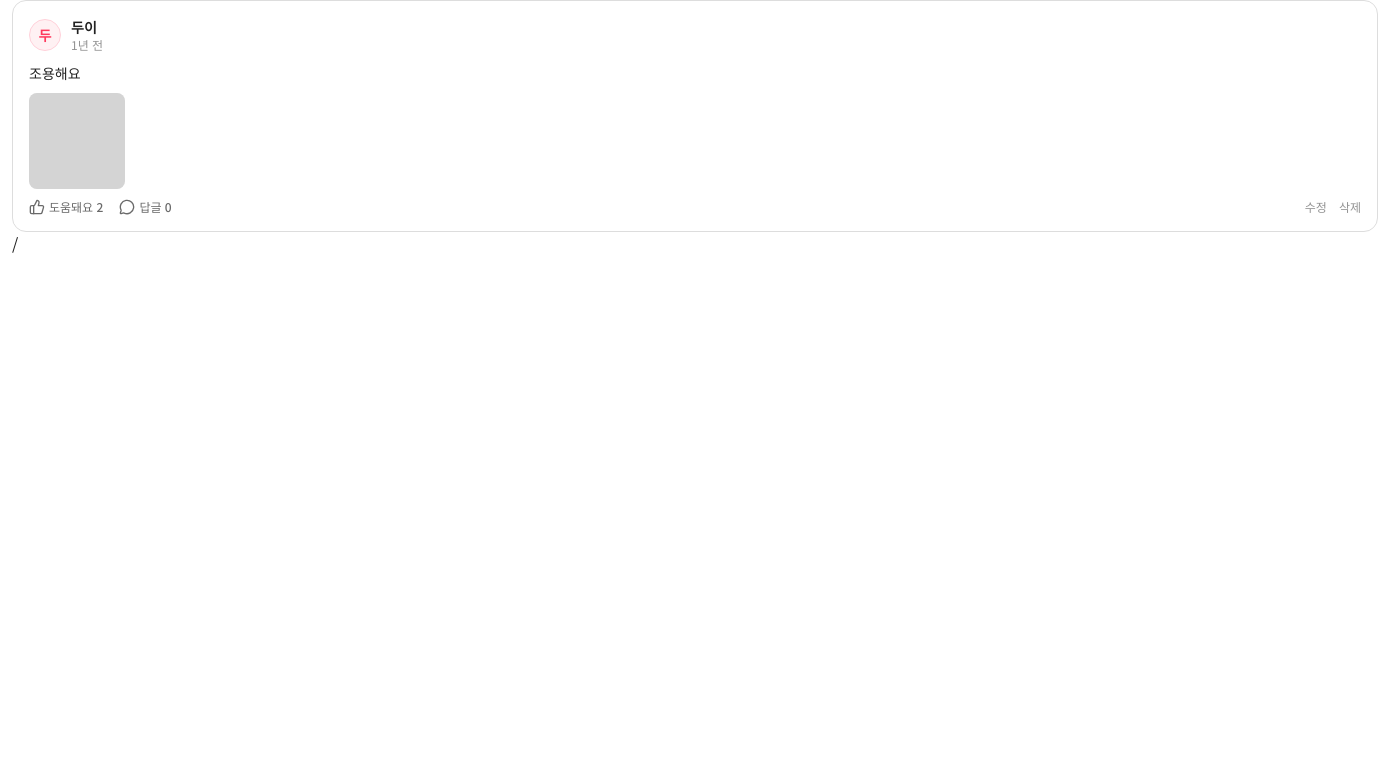
TipCard › 내 팁: 도움돼요는 누를 수 없고, 수정해 저장하면 바뀐다
Expected: the element showing "두 두이 1년 전 조용해요 도움돼요 2 답글 0 수정 삭제" is shown, [12,0,1377,232]
Click the button "도움돼요 2" at (66, 207), box [29,199,103,215]
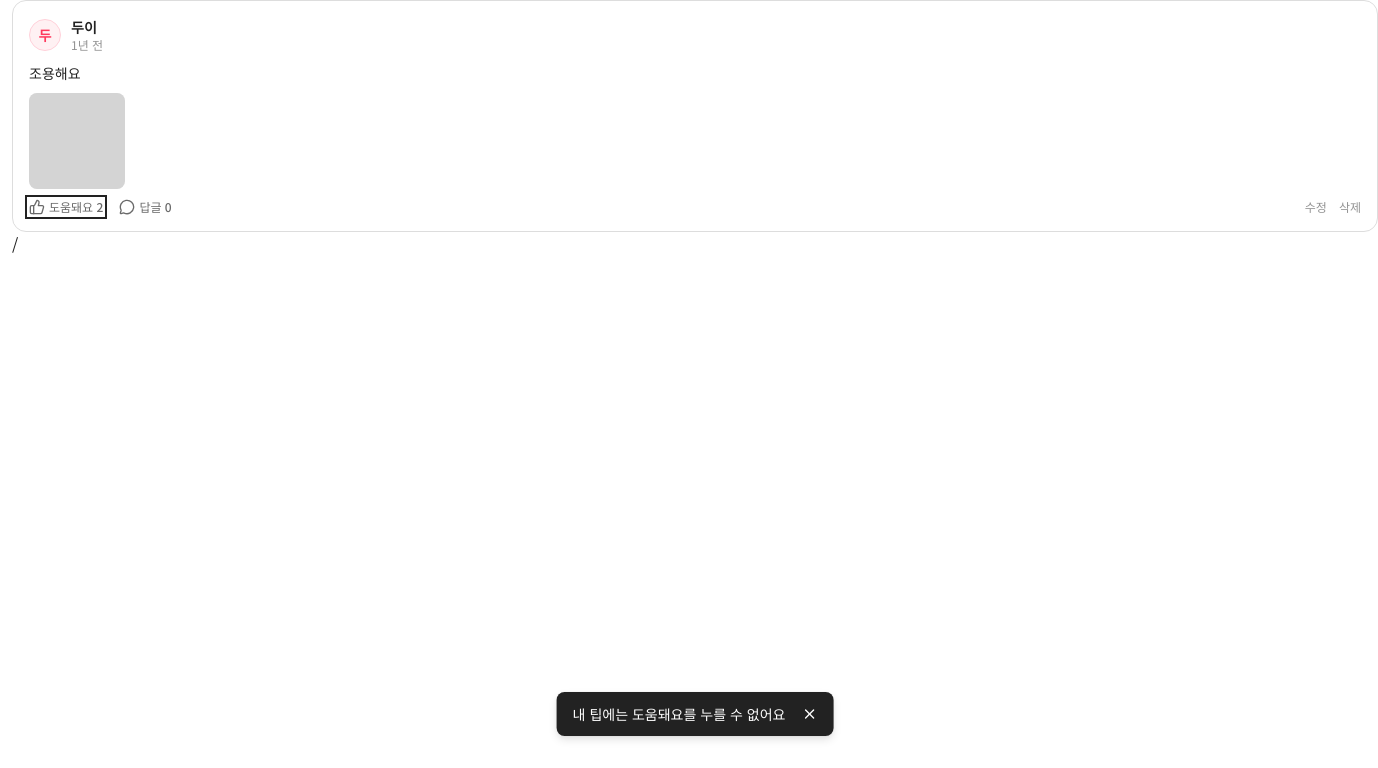
Expected: the message reads "내 팁에는 도움돼요를 누를 수 없어요", [573,704,785,724]
Click the button "수정" at (1316, 207), box [1305,199,1327,215]
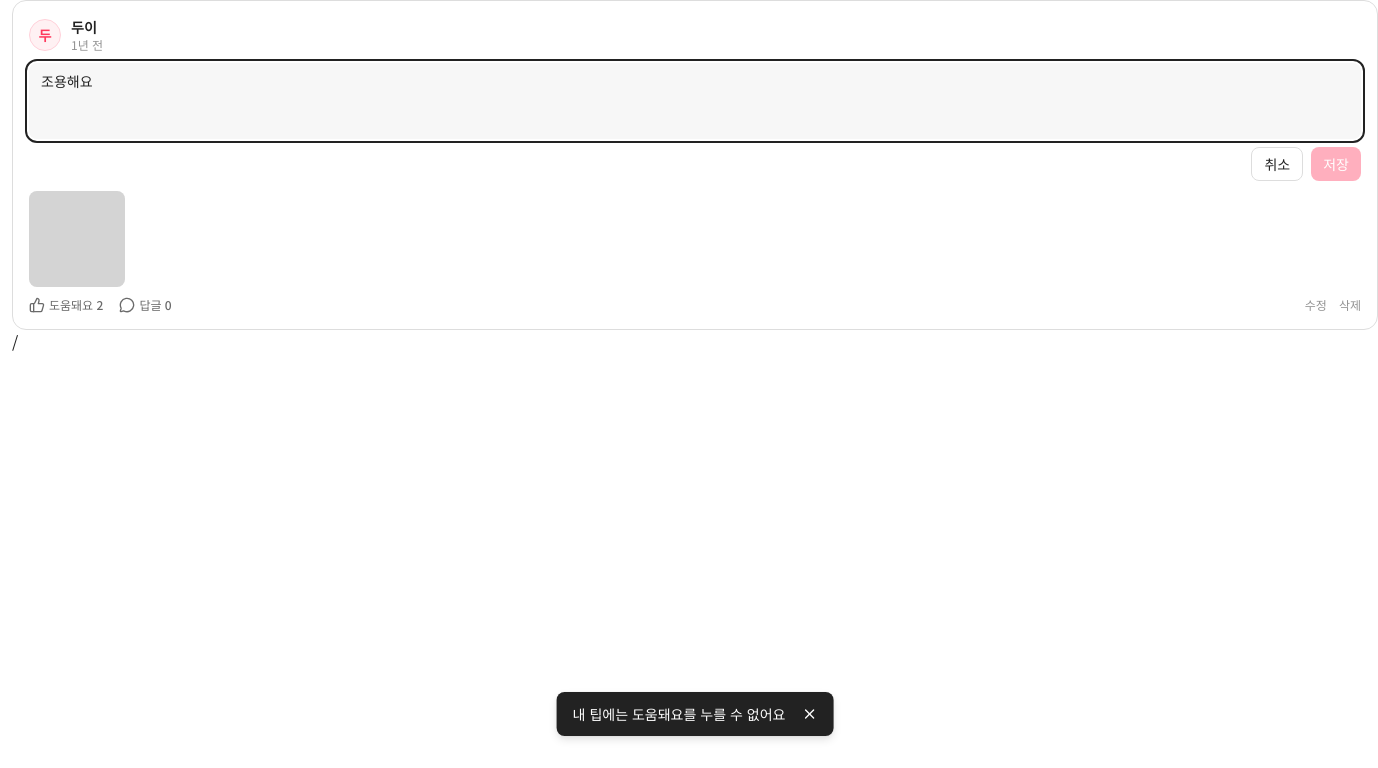
Replace the text in the text box named "팁 고치기" with "고친 팁" at (695, 101), box [29,63,1361,139]
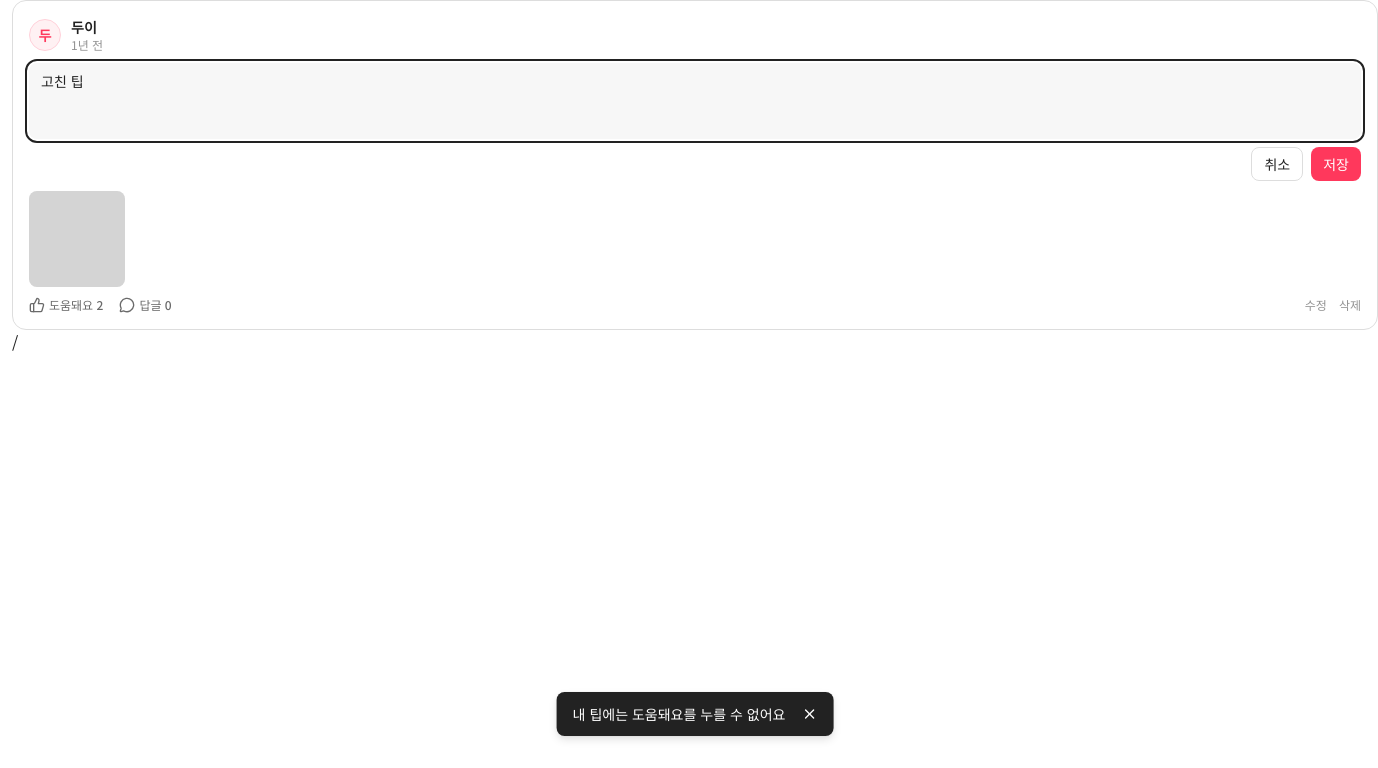
Click the button "저장" at (1336, 164), box [1311,147,1361,181]
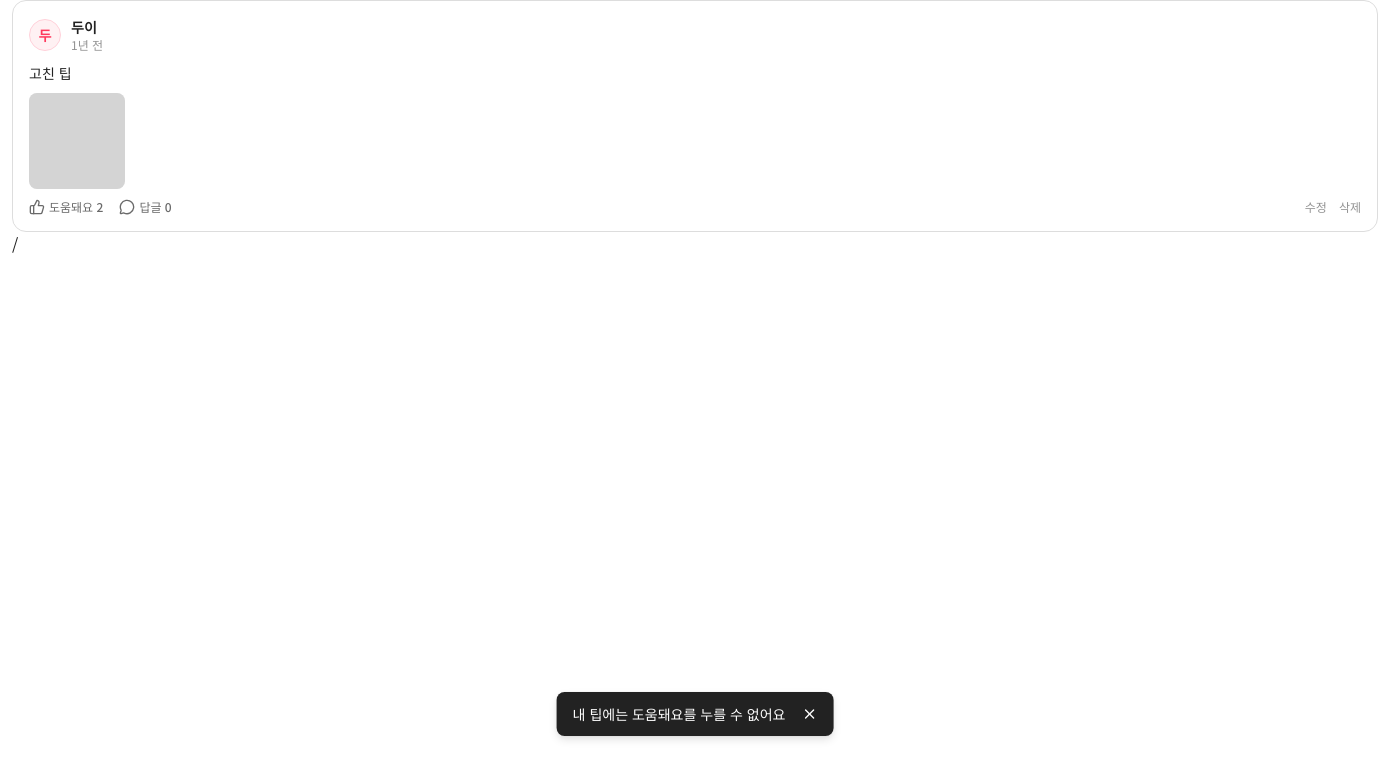
Expected: the text "고친 팁" is shown, [29,63,72,83]
